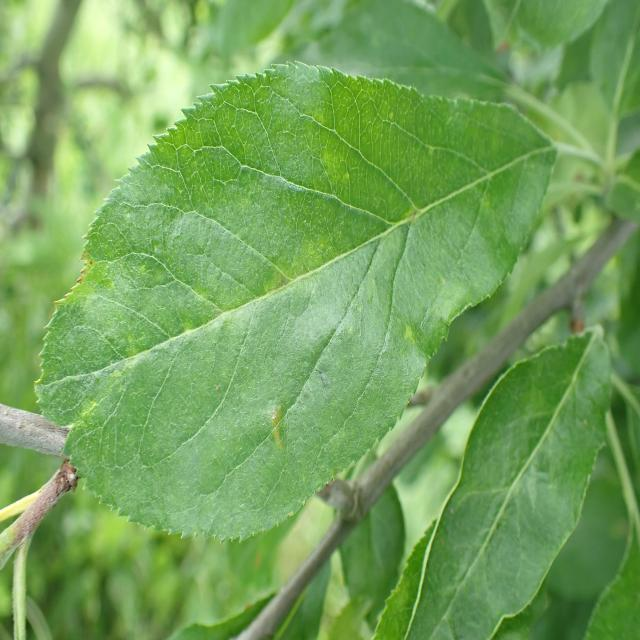scab: (50, 52, 510, 506)
